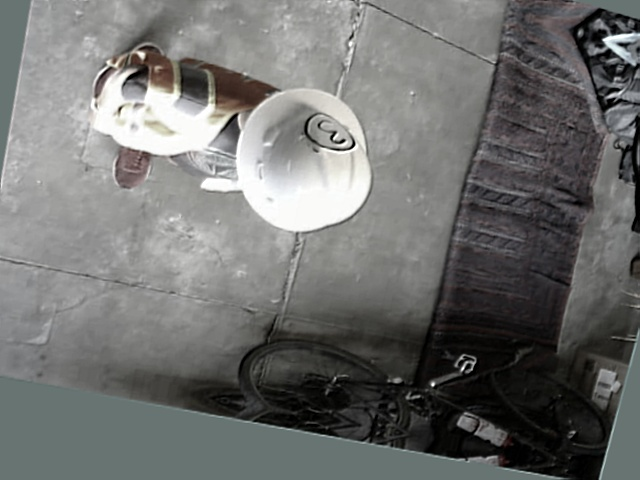three: (302, 110, 358, 154)
